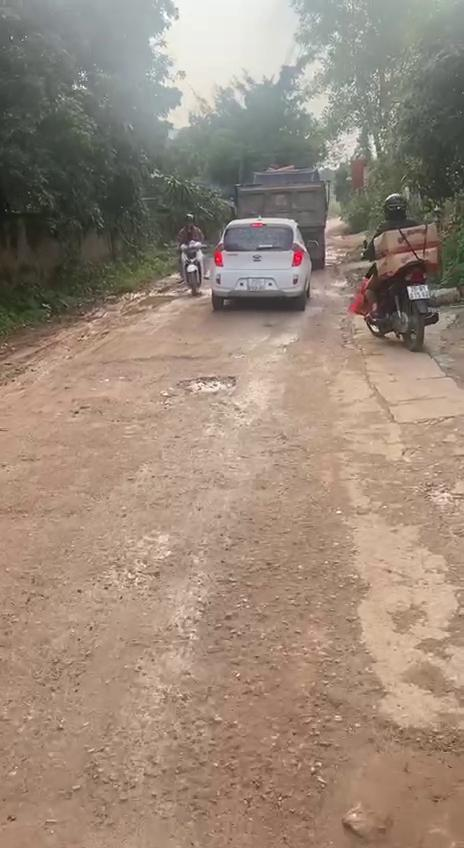pothole: (303, 703, 464, 848), (180, 370, 241, 400)
